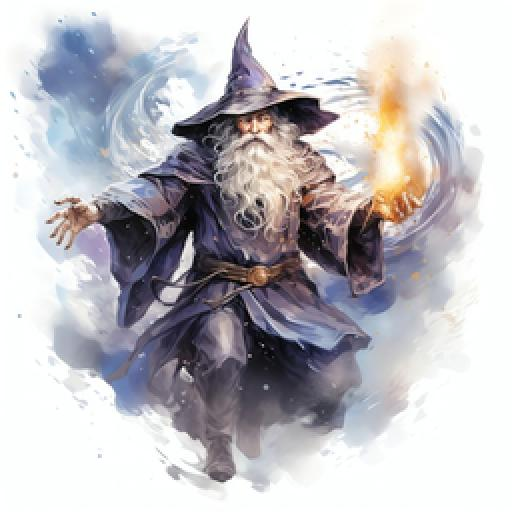wizards: (37, 2, 437, 483)
